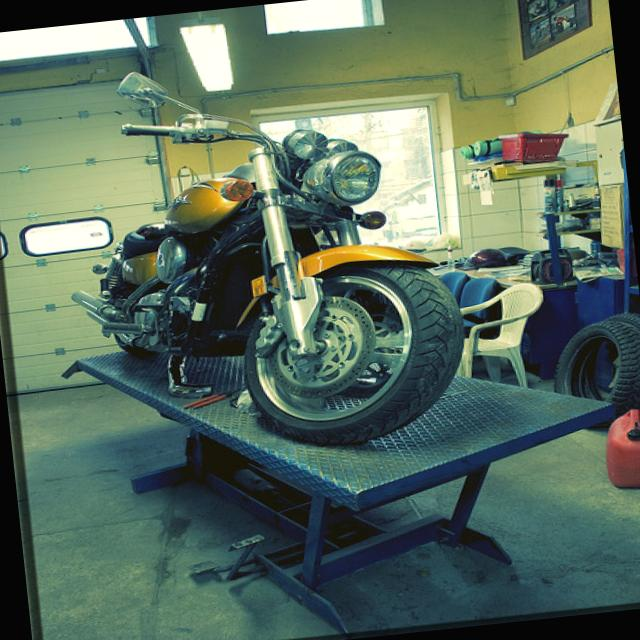Vehicle: (47, 41, 471, 470)
